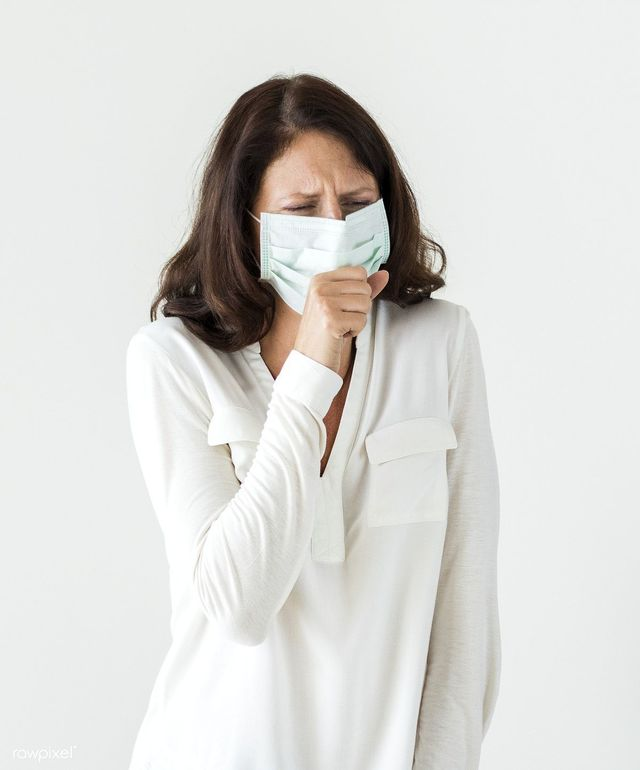mask: (251, 216, 415, 326)
